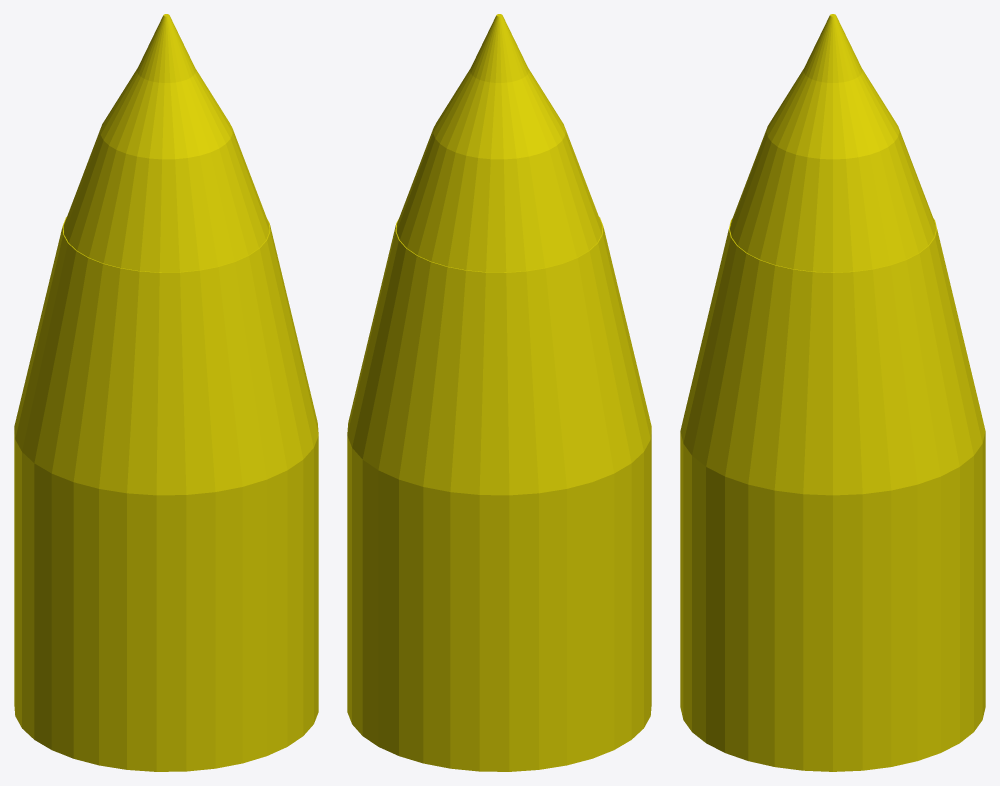
Rendered from bullet.fbx.
3 views of the same model, side by side, from view 1: azimuth 30°, elevation 25°; view 2: azimuth 150°, elevation 25°; view 3: azimuth 270°, elevation 25° (orthographic).
Visible parts, largest first — view 1: Cylinder; view 2: Cylinder; view 3: Cylinder.
Part boxes in pixels (x1,y1,x2,y2): Cylinder: (14,14,318,771); Cylinder: (347,14,651,771); Cylinder: (680,14,985,771).
Size of the model in its own units: 20 by 50.07 by 20.
